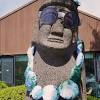Stone Statue: (25, 0, 89, 100)
